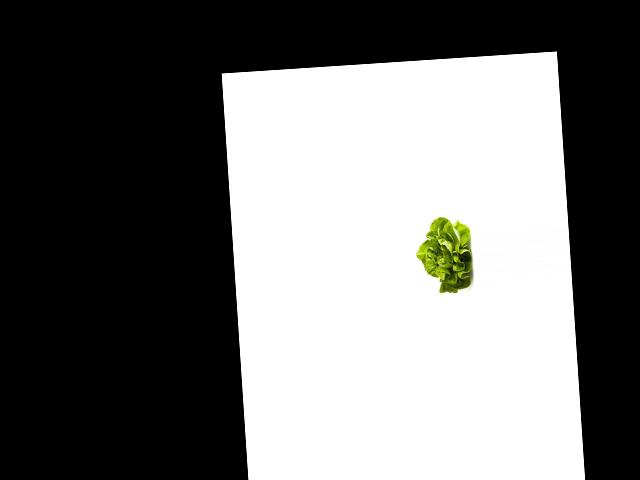lettuce: (414, 212, 474, 296)
